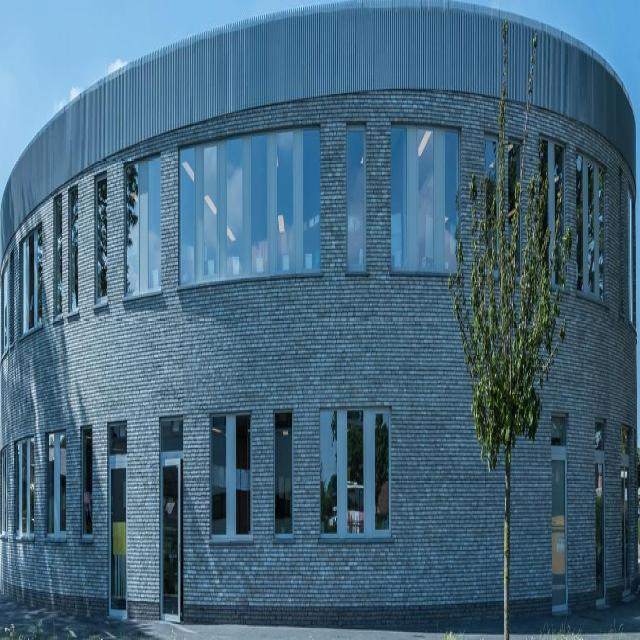door: (159, 420, 183, 622), (106, 423, 128, 621), (550, 436, 566, 615), (594, 418, 605, 610), (620, 423, 631, 599)
plant: (446, 20, 572, 625)
wall: (0, 0, 635, 625)
windows: (177, 129, 318, 287), (389, 125, 458, 278), (318, 411, 391, 541), (208, 415, 252, 544), (123, 156, 160, 300), (576, 154, 607, 304), (346, 127, 365, 276), (272, 414, 293, 545), (45, 435, 65, 539), (23, 227, 41, 336), (14, 442, 33, 539), (93, 173, 106, 305), (81, 429, 92, 538), (68, 187, 77, 312), (0, 269, 6, 355), (0, 456, 6, 538)
